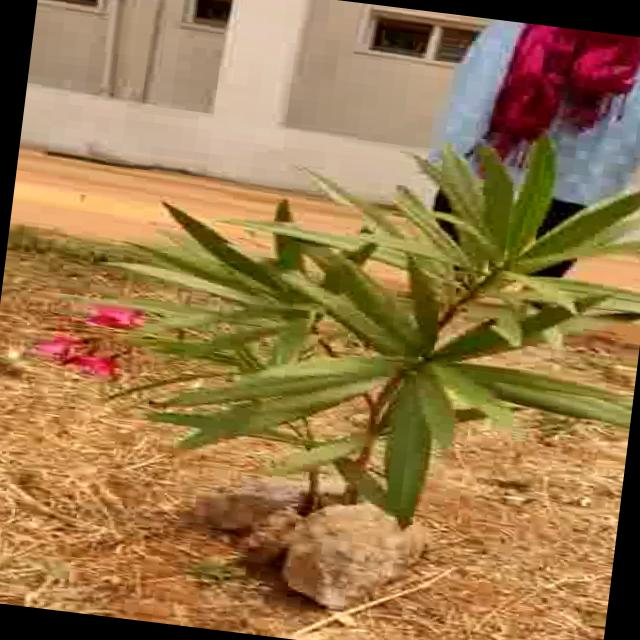Oleander: (113, 131, 640, 534)
